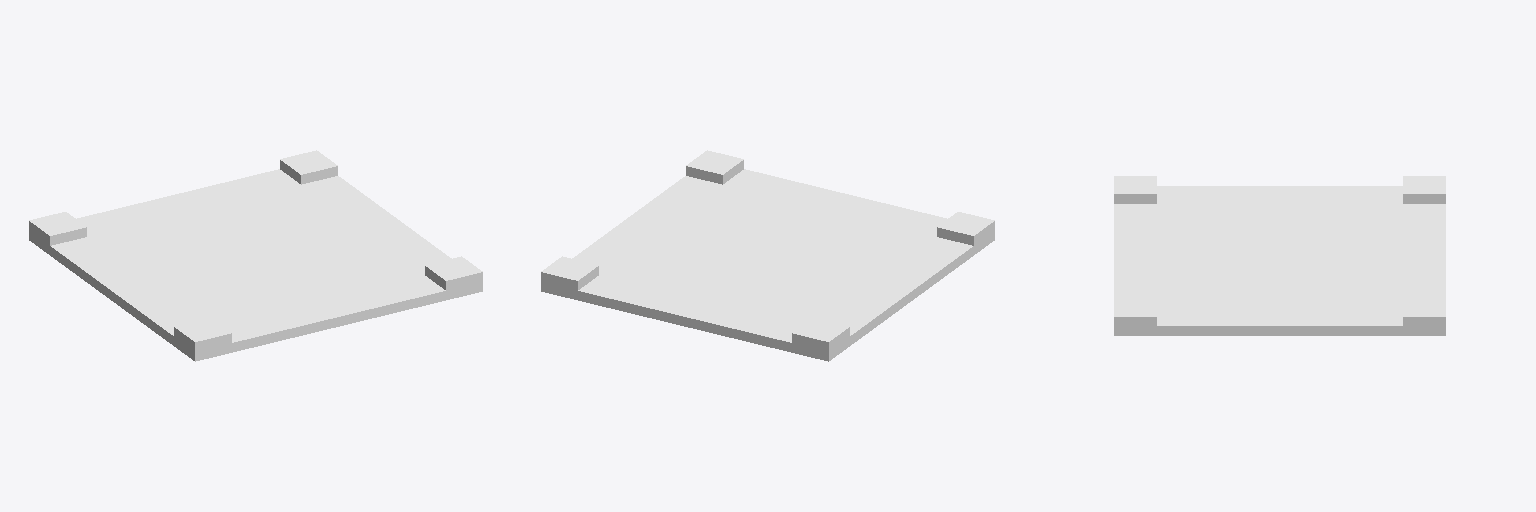
The model's file is Cross.obj.
The picture shows the model from 3 angles: view 1: azimuth 30°, elevation 25°; view 2: azimuth 150°, elevation 25°; view 3: azimuth 270°, elevation 25°; orthographic projection.
Parts seen in each view (by area): view 1: Cross; view 2: Cross; view 3: Cross.
Boxes of the visible parts, box(x1,y1,x2,y2) form: Cross: box(29, 150, 482, 361); Cross: box(541, 150, 994, 361); Cross: box(1114, 176, 1445, 335).
Size of the model in its own units: 31 by 2 by 31.